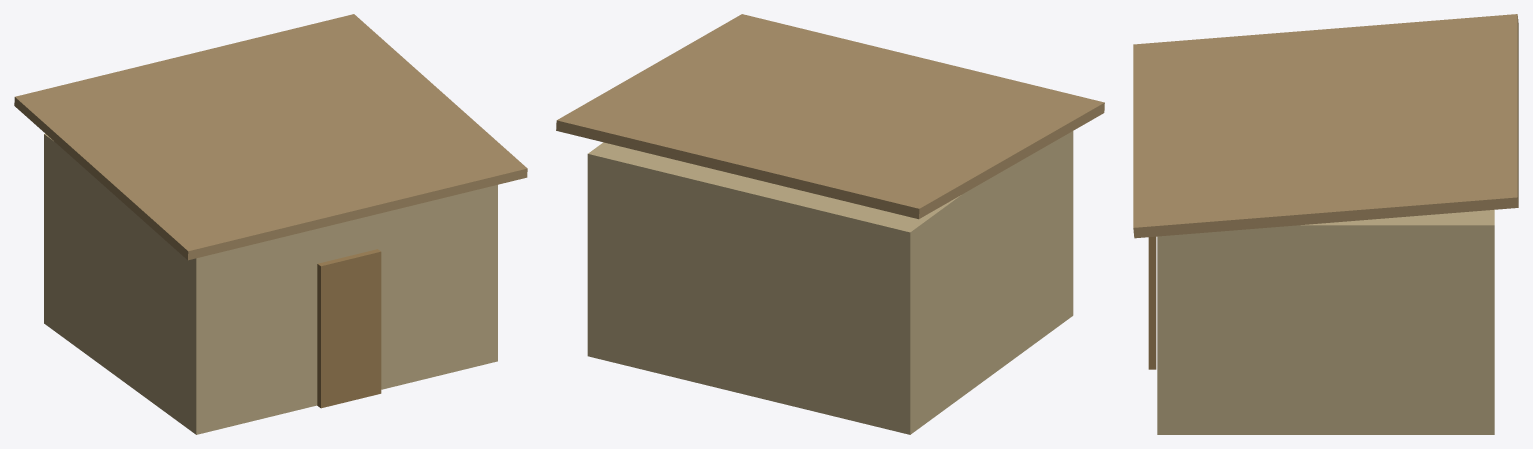
The model's file is env-ww-mining.glb.
3 renders of one model, left to right at view 1: azimuth 30°, elevation 25°; view 2: azimuth 150°, elevation 25°; view 3: azimuth 270°, elevation 25°, orthographic. The views are drawn at different scales.
Size of the model in its own units: 4.5 by 2.83 by 4.
